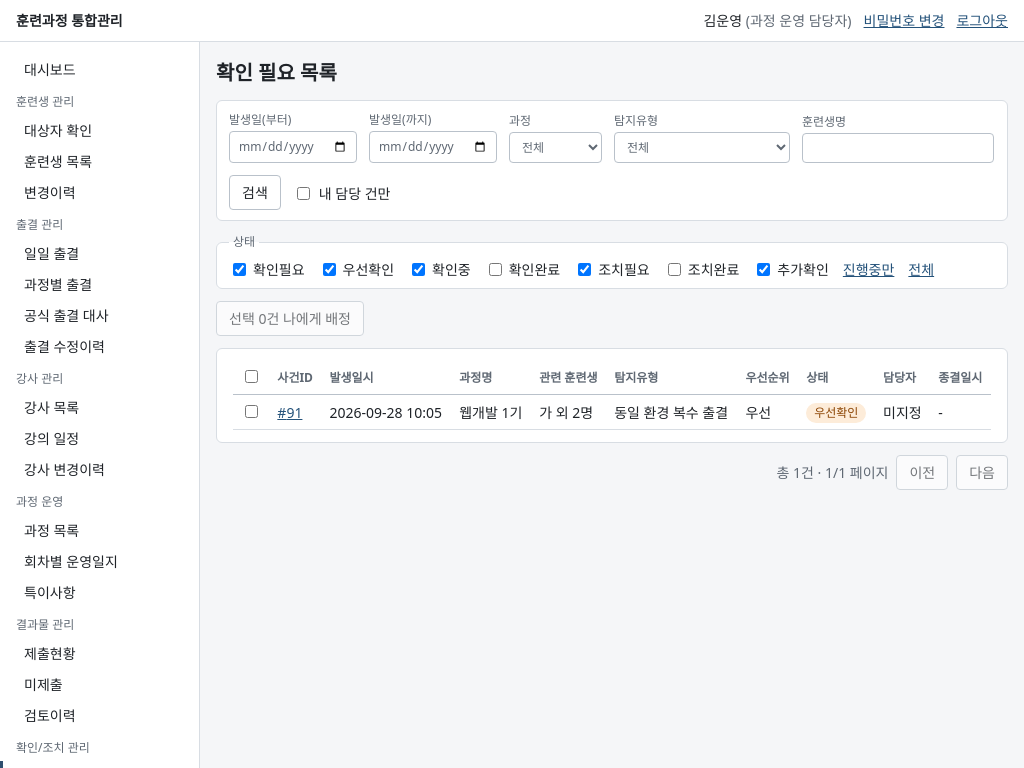
Test: S22 확인 필요 목록 › 선택한 건을 나에게 배정한다
This screenshot has width=1024, height=768.
Expected: the row "#91 2026-09-28 10:05 웹개발 1기 가 외 2명 동일 환경 복수 출결 우선 우선확인 미지정 -" is shown, left=233, top=394, right=991, bottom=430
Expected: the button "선택 0건 나에게 배정" is disabled, left=216, top=301, right=364, bottom=336
What coordinates should you click on to do the following:
click the checkbox named "사건 91 선택"
I would click on:
 (252, 411)
Its box is left=245, top=404, right=258, bottom=418.
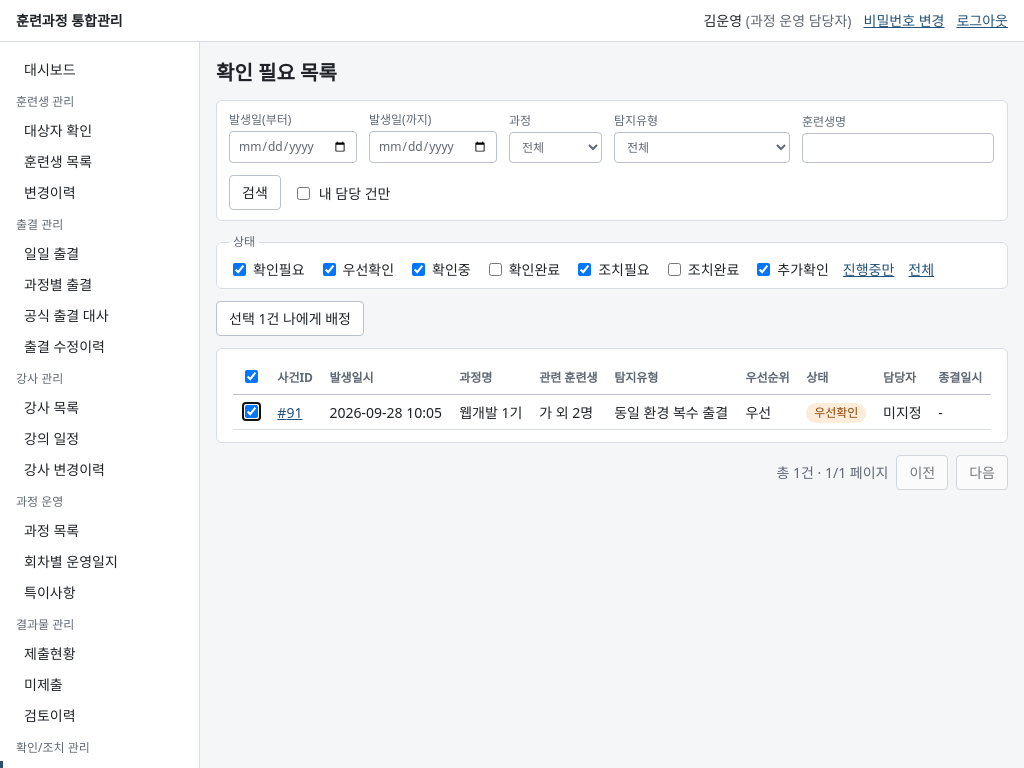
What coordinates should you click on to do the following:
click the button "선택 1건 나에게 배정"
I would click on:
 (290, 318)
Its box is left=216, top=301, right=364, bottom=336.
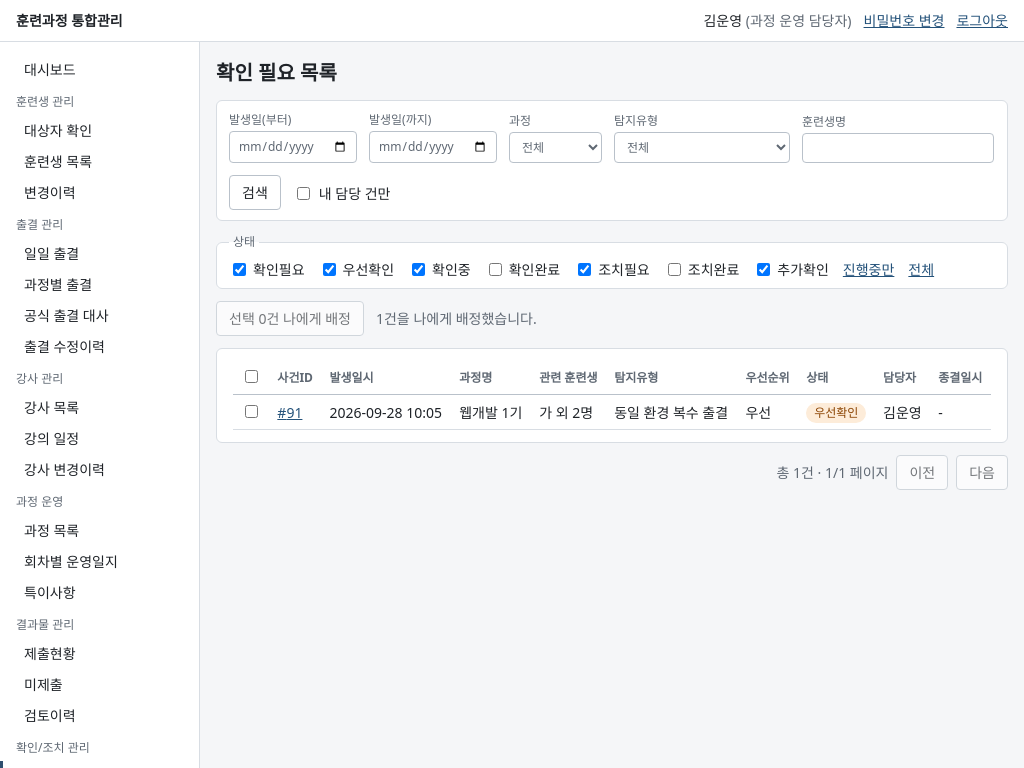
Now the text "1건을 나에게 배정했습니다." is shown, box left=376, top=308, right=537, bottom=329
Now the cell "김운영" is shown, box left=875, top=394, right=930, bottom=430
